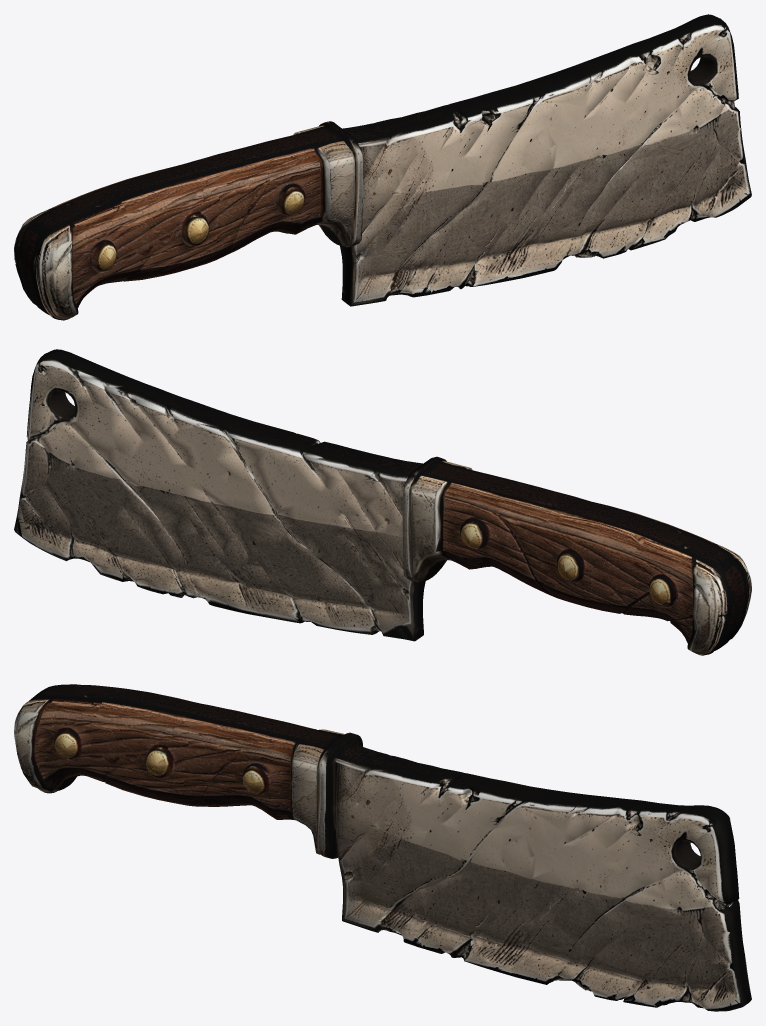
The model's file is cleaver.glb.
The picture shows the model from 3 angles, top to bottom: view 1: azimuth 30°, elevation 25°; view 2: azimuth 150°, elevation 25°; view 3: azimuth 330°, elevation 25°; orthographic projection.
Parts seen in each view (by area): view 1: tripo_node_34f4fa57-5e85-4fc9-810a-a338dd95141c; view 2: tripo_node_34f4fa57-5e85-4fc9-810a-a338dd95141c; view 3: tripo_node_34f4fa57-5e85-4fc9-810a-a338dd95141c.
Boxes of the visible parts, x1=… form: tripo_node_34f4fa57-5e85-4fc9-810a-a338dd95141c: x1=14, y1=14, x2=751, y2=320; tripo_node_34f4fa57-5e85-4fc9-810a-a338dd95141c: x1=14, y1=349, x2=751, y2=655; tripo_node_34f4fa57-5e85-4fc9-810a-a338dd95141c: x1=14, y1=684, x2=751, y2=1011.
Bounding box in the file's own units: 0.9794 × 0.2739 × 0.1042.
Materials: 1 (1 with a texture image).
